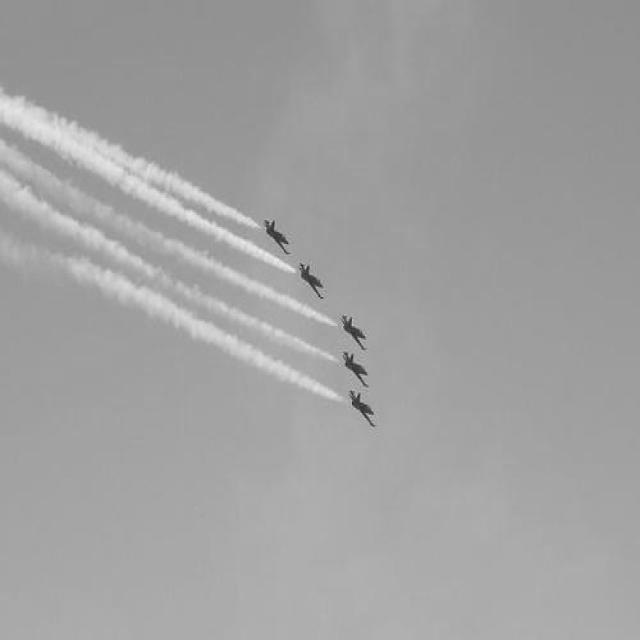aeroplane: (260, 218, 290, 256), (338, 350, 368, 388), (296, 260, 324, 300), (340, 314, 368, 352), (347, 389, 375, 423)
